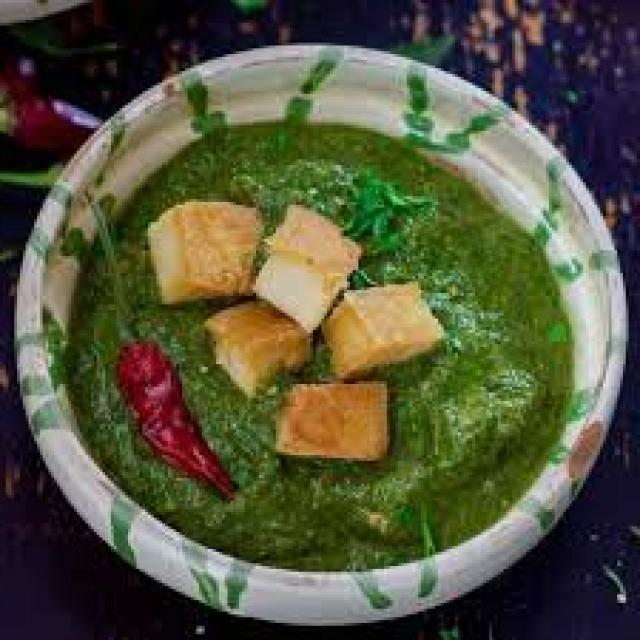Palak Paneer: (61, 120, 576, 572)
